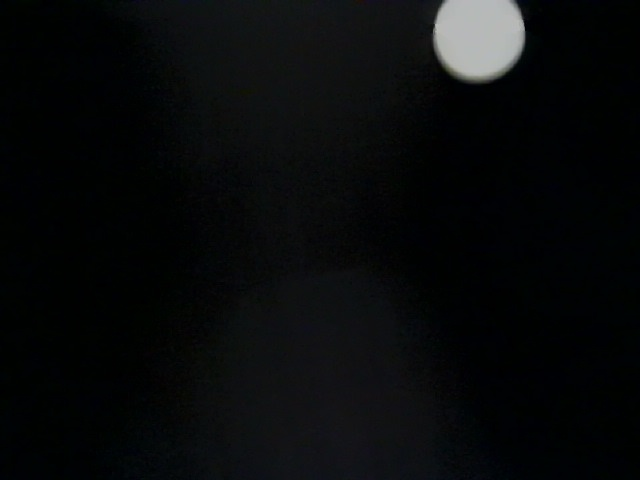YHLJ: (403, 133, 505, 372)
